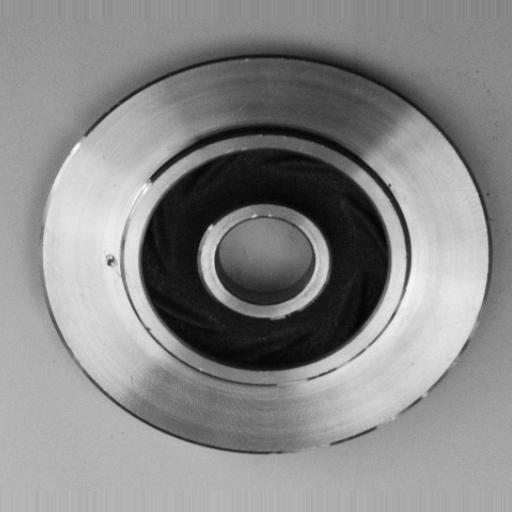crack: (98, 245, 123, 280)
unpolished_casting: (39, 51, 491, 456)
